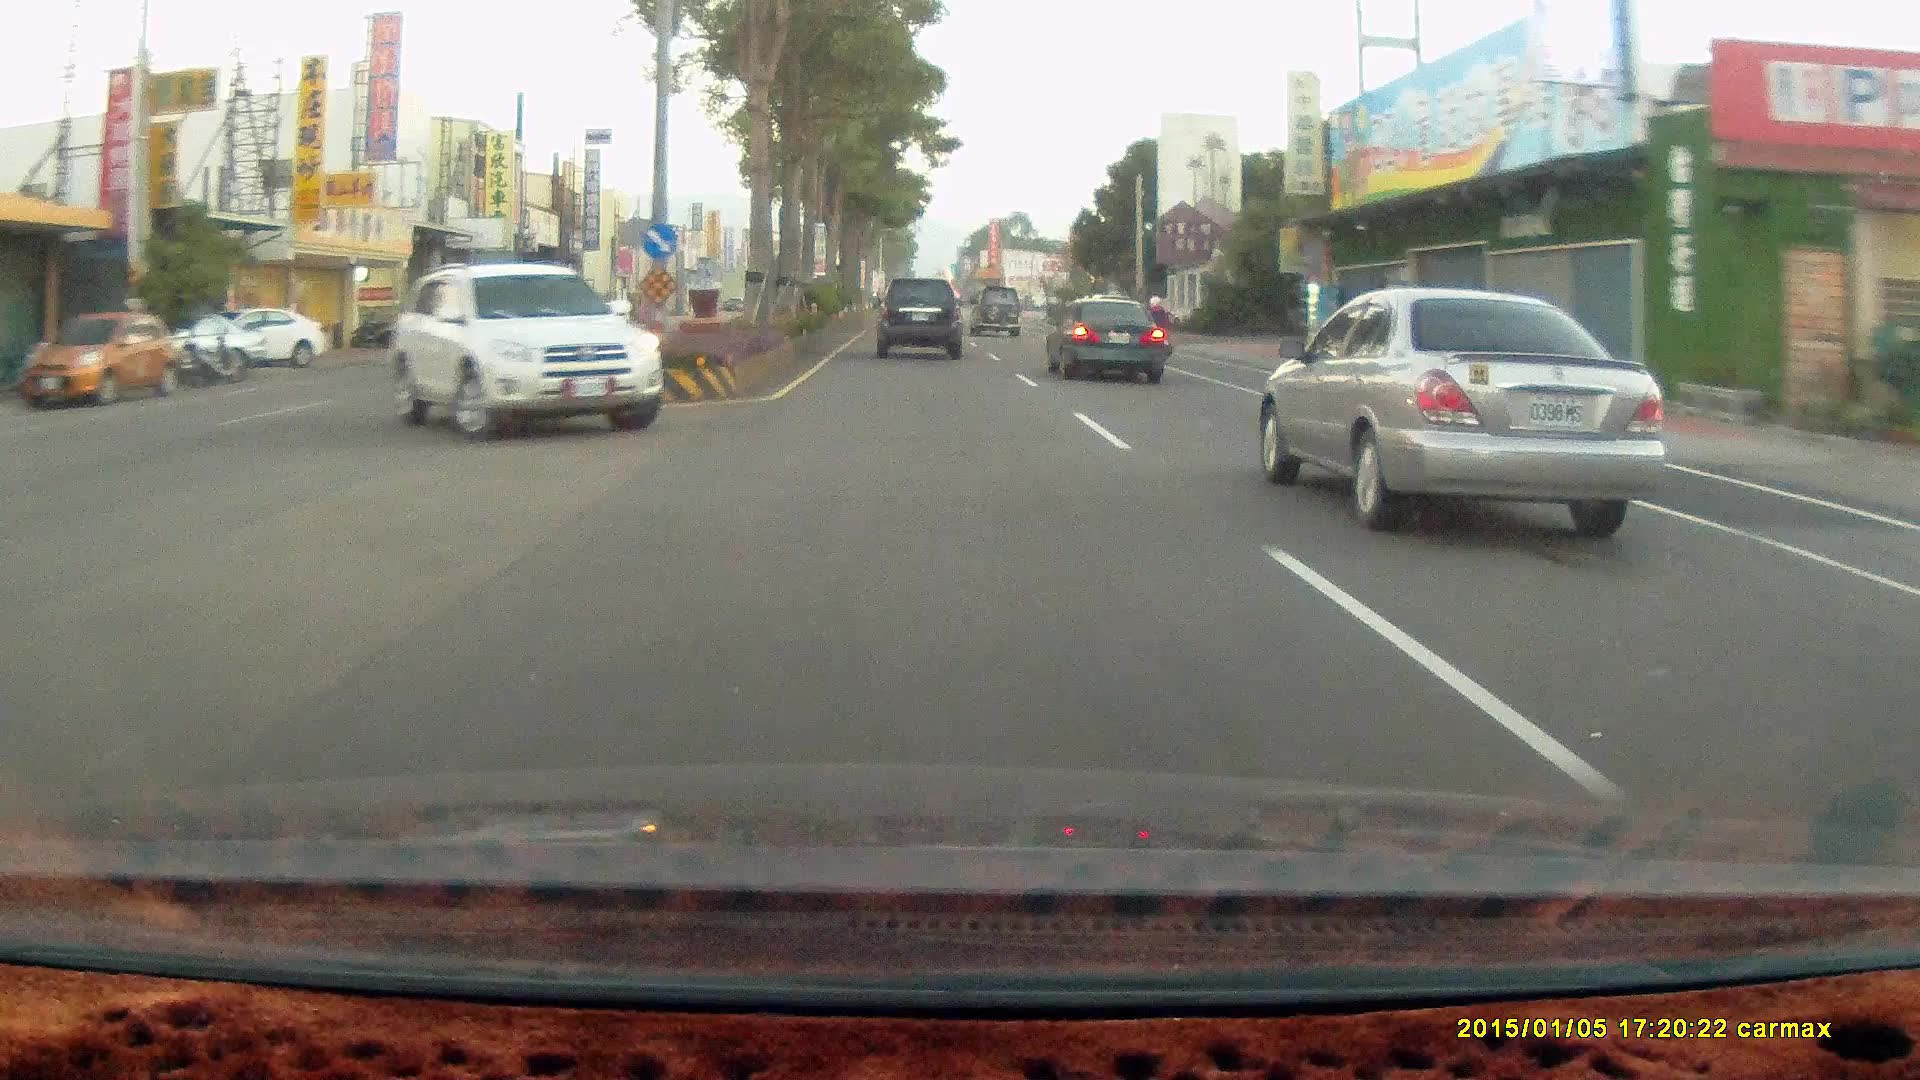vehicle: (1254, 287, 1676, 549), (386, 258, 663, 438), (394, 258, 662, 440), (13, 309, 175, 407), (22, 309, 179, 405), (1043, 293, 1164, 382), (1052, 297, 1172, 382), (186, 303, 328, 368), (194, 302, 330, 367), (880, 276, 969, 361), (876, 277, 963, 357), (971, 282, 1026, 339), (969, 286, 1022, 339)
